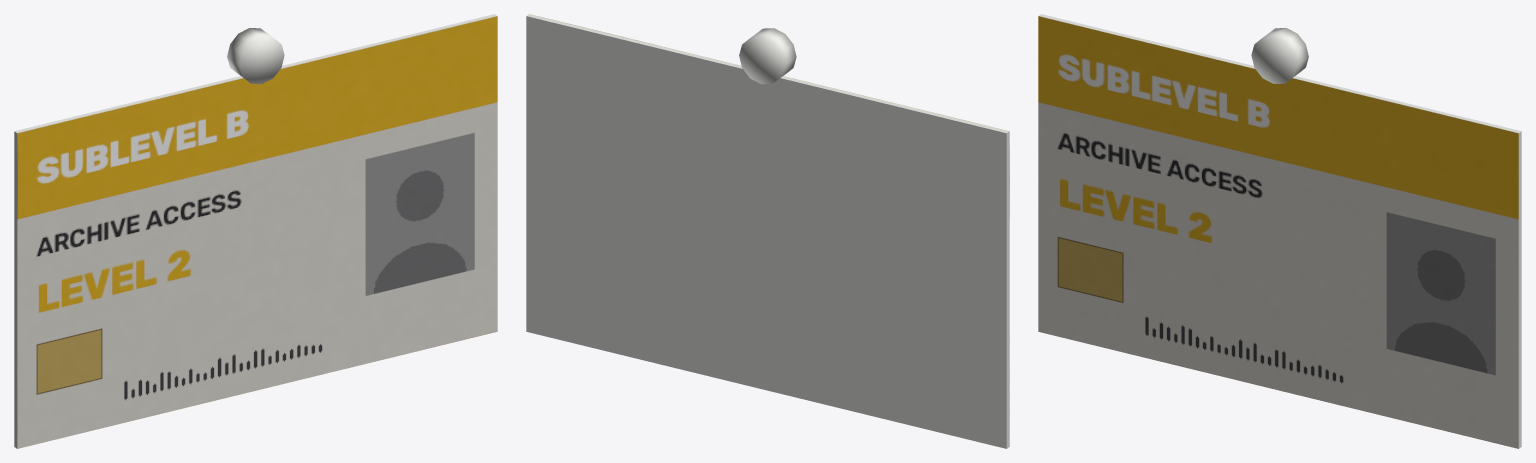
File: ep-keycard-yellow.glb
3 renders of one model, left to right at view 1: azimuth 30°, elevation 25°; view 2: azimuth 150°, elevation 25°; view 3: azimuth 330°, elevation 25°, orthographic.
Visible parts, largest first — view 1: Keycard_yellow; view 2: Keycard_yellow; view 3: Keycard_yellow.
Boxes of the visible parts, x1,y1,x2,y2 form: Keycard_yellow: [14, 14, 497, 448]; Keycard_yellow: [526, 14, 1009, 448]; Keycard_yellow: [1038, 14, 1521, 448].
Size of the model in its own units: 0.086 by 0.061 by 0.004.
Materials: 2 (1 with a texture image).
